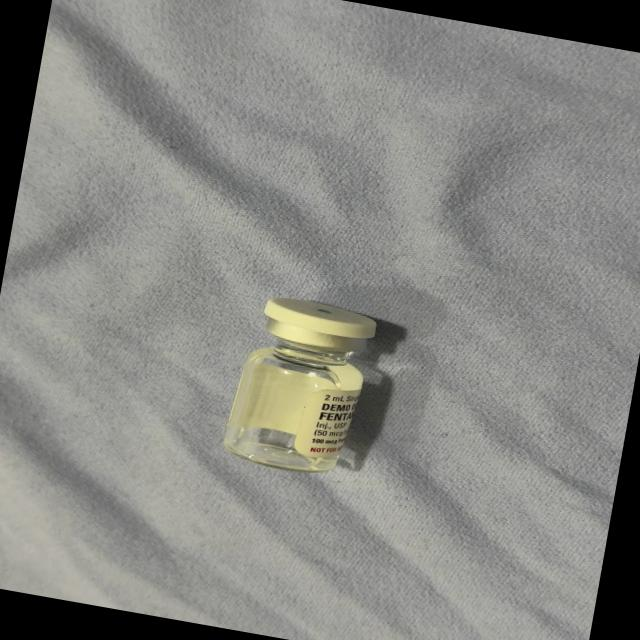fentanl_citrat: (222, 292, 382, 478)
